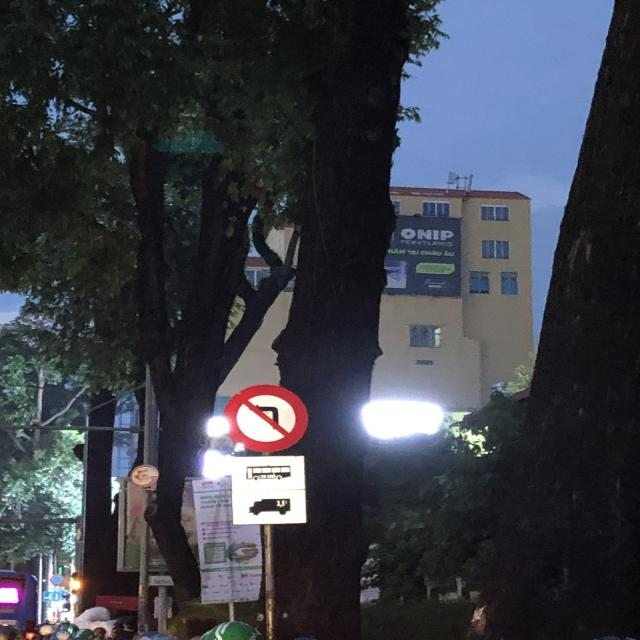Bien bao cam re trai: (217, 376, 318, 451)
